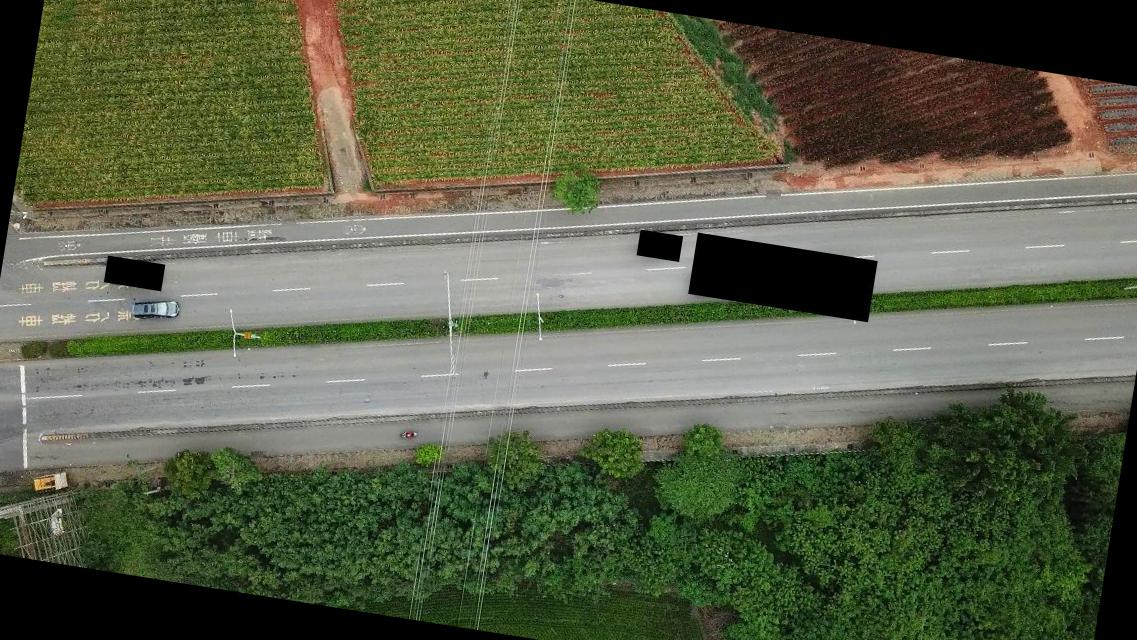vehicle: (130, 294, 182, 322), (32, 472, 63, 494)
